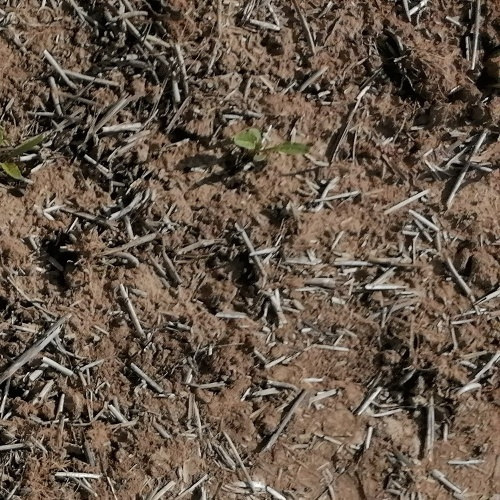beet: (0, 129, 51, 184), (234, 128, 311, 163)
